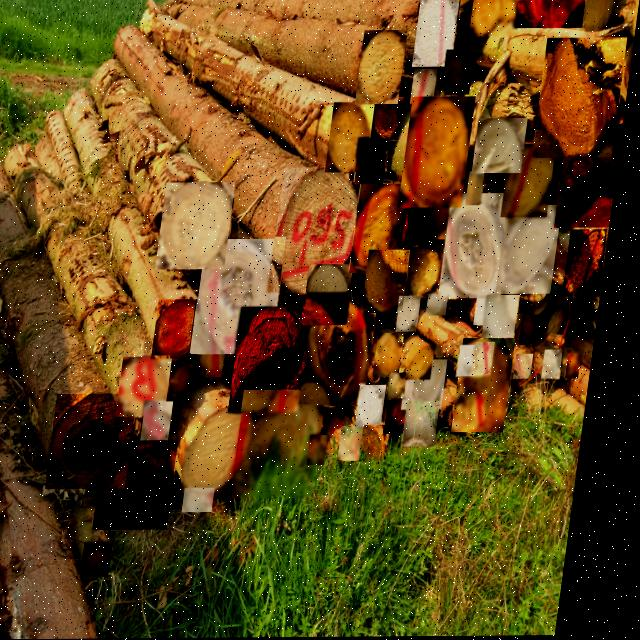wood-log: (280, 168, 366, 292), (542, 39, 621, 159), (247, 391, 334, 497), (208, 240, 287, 354), (62, 394, 146, 489), (242, 308, 317, 412), (410, 98, 472, 208), (112, 442, 187, 529), (317, 302, 380, 405), (561, 126, 624, 229), (168, 183, 238, 270), (195, 409, 266, 493), (452, 194, 509, 298), (505, 206, 566, 295), (360, 185, 418, 273), (470, 340, 520, 433), (509, 145, 558, 218), (360, 31, 406, 105), (129, 357, 178, 416), (164, 300, 213, 359), (334, 103, 374, 173), (417, 0, 457, 67), (572, 231, 612, 296), (480, 119, 527, 174), (315, 267, 358, 326), (374, 251, 413, 314), (415, 361, 457, 410), (519, 0, 585, 29), (472, 0, 522, 37), (436, 190, 467, 240), (418, 402, 448, 447), (495, 296, 525, 338), (363, 139, 390, 185), (446, 51, 474, 95), (419, 255, 448, 296), (378, 98, 405, 141), (386, 334, 411, 377), (155, 402, 183, 440), (369, 386, 394, 427), (484, 286, 509, 326), (98, 543, 127, 576), (208, 342, 234, 377), (417, 346, 443, 380), (374, 426, 399, 460), (351, 428, 376, 461), (405, 297, 429, 331), (415, 69, 438, 104), (397, 401, 418, 434), (197, 489, 227, 512), (181, 365, 202, 395), (413, 205, 427, 245), (470, 346, 488, 377), (486, 343, 502, 376), (321, 436, 338, 466), (473, 172, 488, 206), (529, 317, 546, 344), (554, 351, 570, 378), (526, 355, 542, 380), (400, 374, 416, 398), (436, 296, 455, 316), (576, 354, 591, 379)
